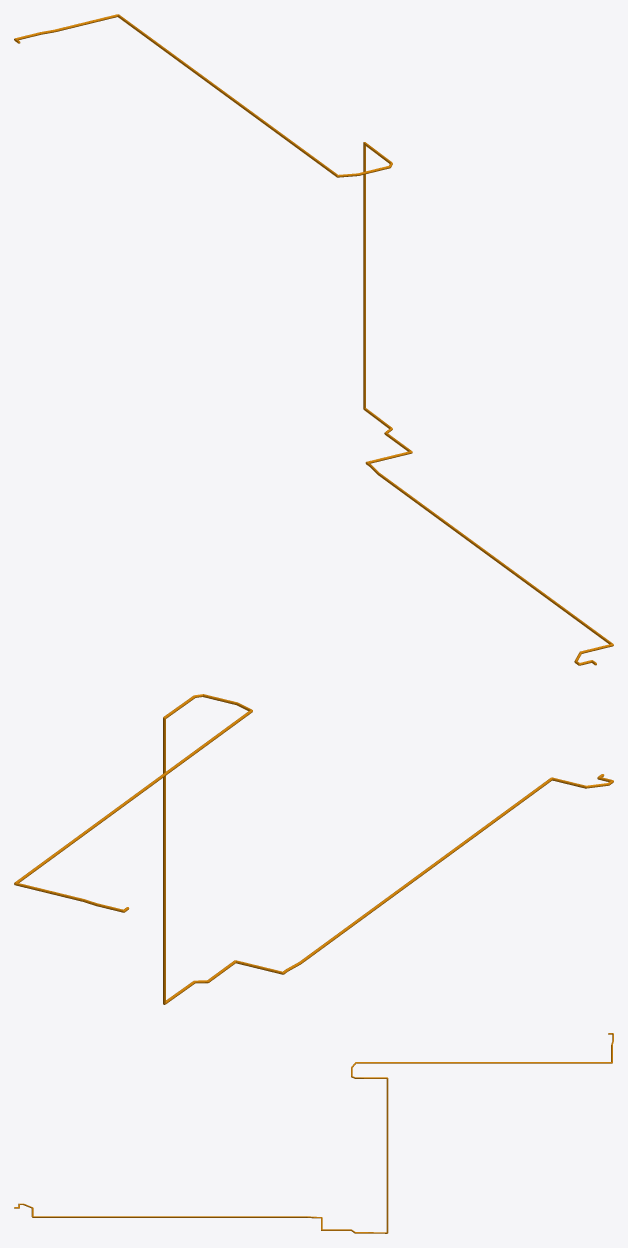
The picture shows the model from 3 angles, top to bottom: view 1: azimuth 30°, elevation 25°; view 2: azimuth 150°, elevation 25°; view 3: azimuth 270°, elevation 25°; orthographic projection. The views are drawn at different scales.
Size of the model in its own units: 1248 by 2020 by 7027.
